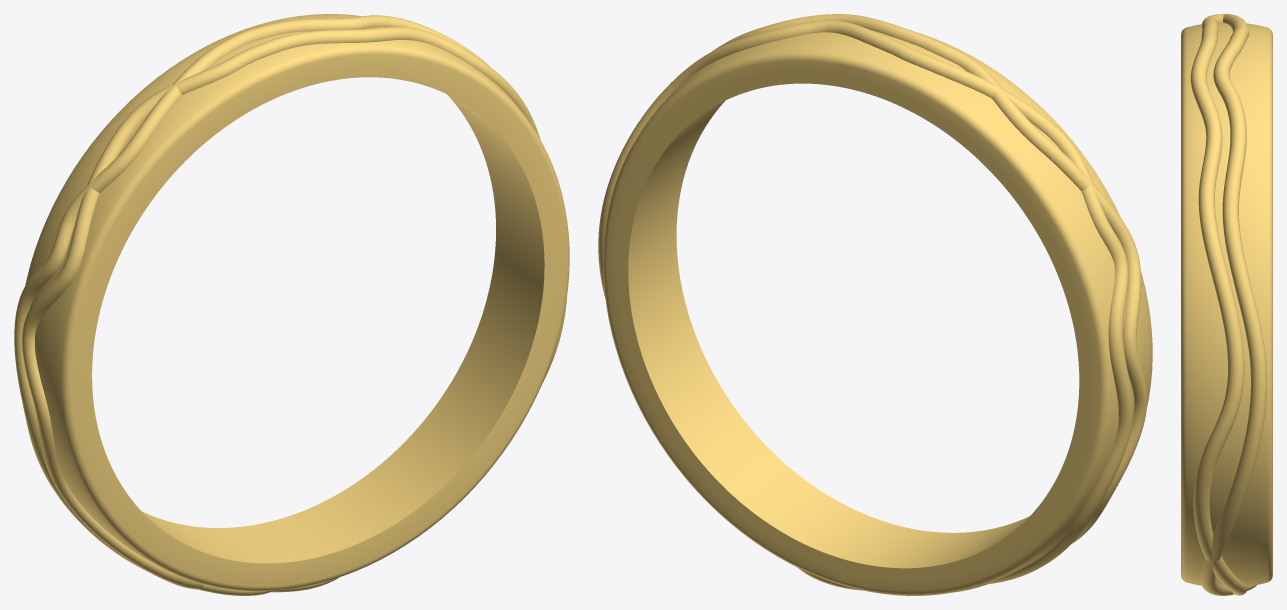
The model's file is JessicaSigelV2waves.glb.
3 renders of one model, left to right at view 1: azimuth 30°, elevation 25°; view 2: azimuth 150°, elevation 25°; view 3: azimuth 270°, elevation 25°, orthographic. The views are drawn at different scales.
Parts seen in each view (by area): view 1: V2 Jessica YG for 3d model; view 2: V2 Jessica YG for 3d model; view 3: V2 Jessica YG for 3d model.
Boxes of the visible parts, <box> form: V2 Jessica YG for 3d model: <box>14,14,569,595</box>; V2 Jessica YG for 3d model: <box>598,14,1152,595</box>; V2 Jessica YG for 3d model: <box>1181,14,1272,595</box>.
Bounding box in the file's own units: 22.83 × 22.83 × 3.6.
